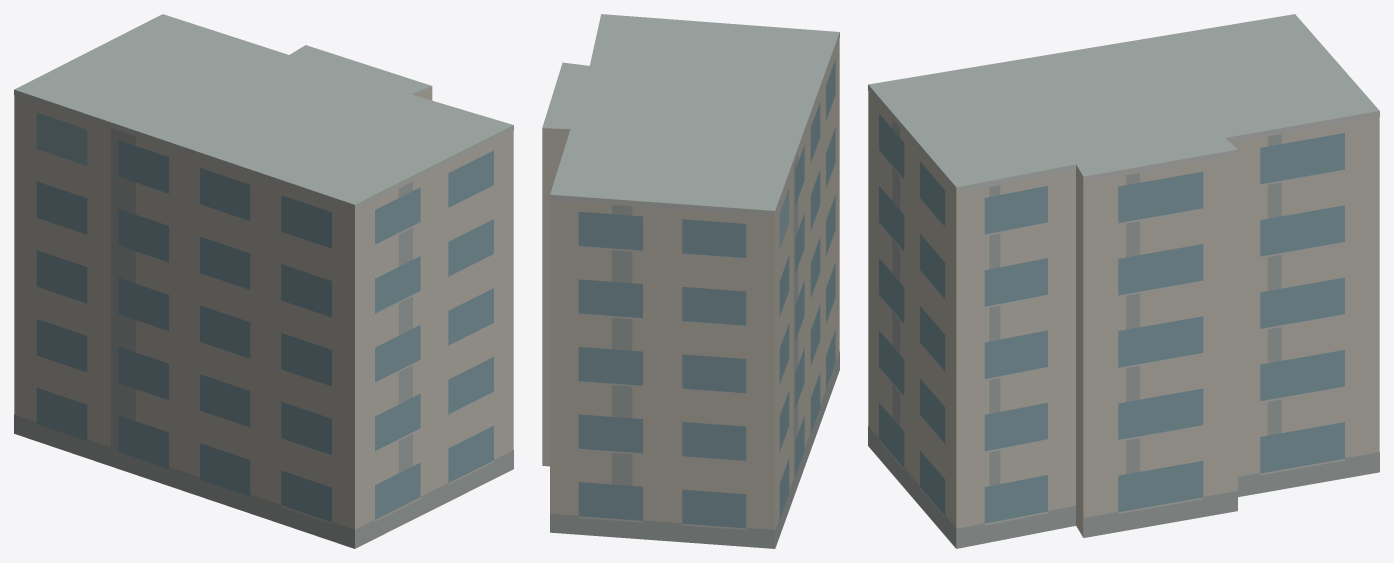
Rendered from survey-upis-32851356.glb.
The picture shows the model from 3 angles, left to right: view 1: azimuth 30°, elevation 25°; view 2: azimuth 150°, elevation 25°; view 3: azimuth 270°, elevation 25°; orthographic projection. The views are drawn at different scales.
Visible parts, largest first — view 1: survey-upis-32851356.tmp; view 2: survey-upis-32851356.tmp; view 3: survey-upis-32851356.tmp.
Boxes of the visible parts, x1,y1,x2,y2 form: survey-upis-32851356.tmp: (14,14,513,548); survey-upis-32851356.tmp: (542,14,839,548); survey-upis-32851356.tmp: (868,14,1379,548).
Size of the model in its own units: 14.83 by 14.4 by 18.48.
